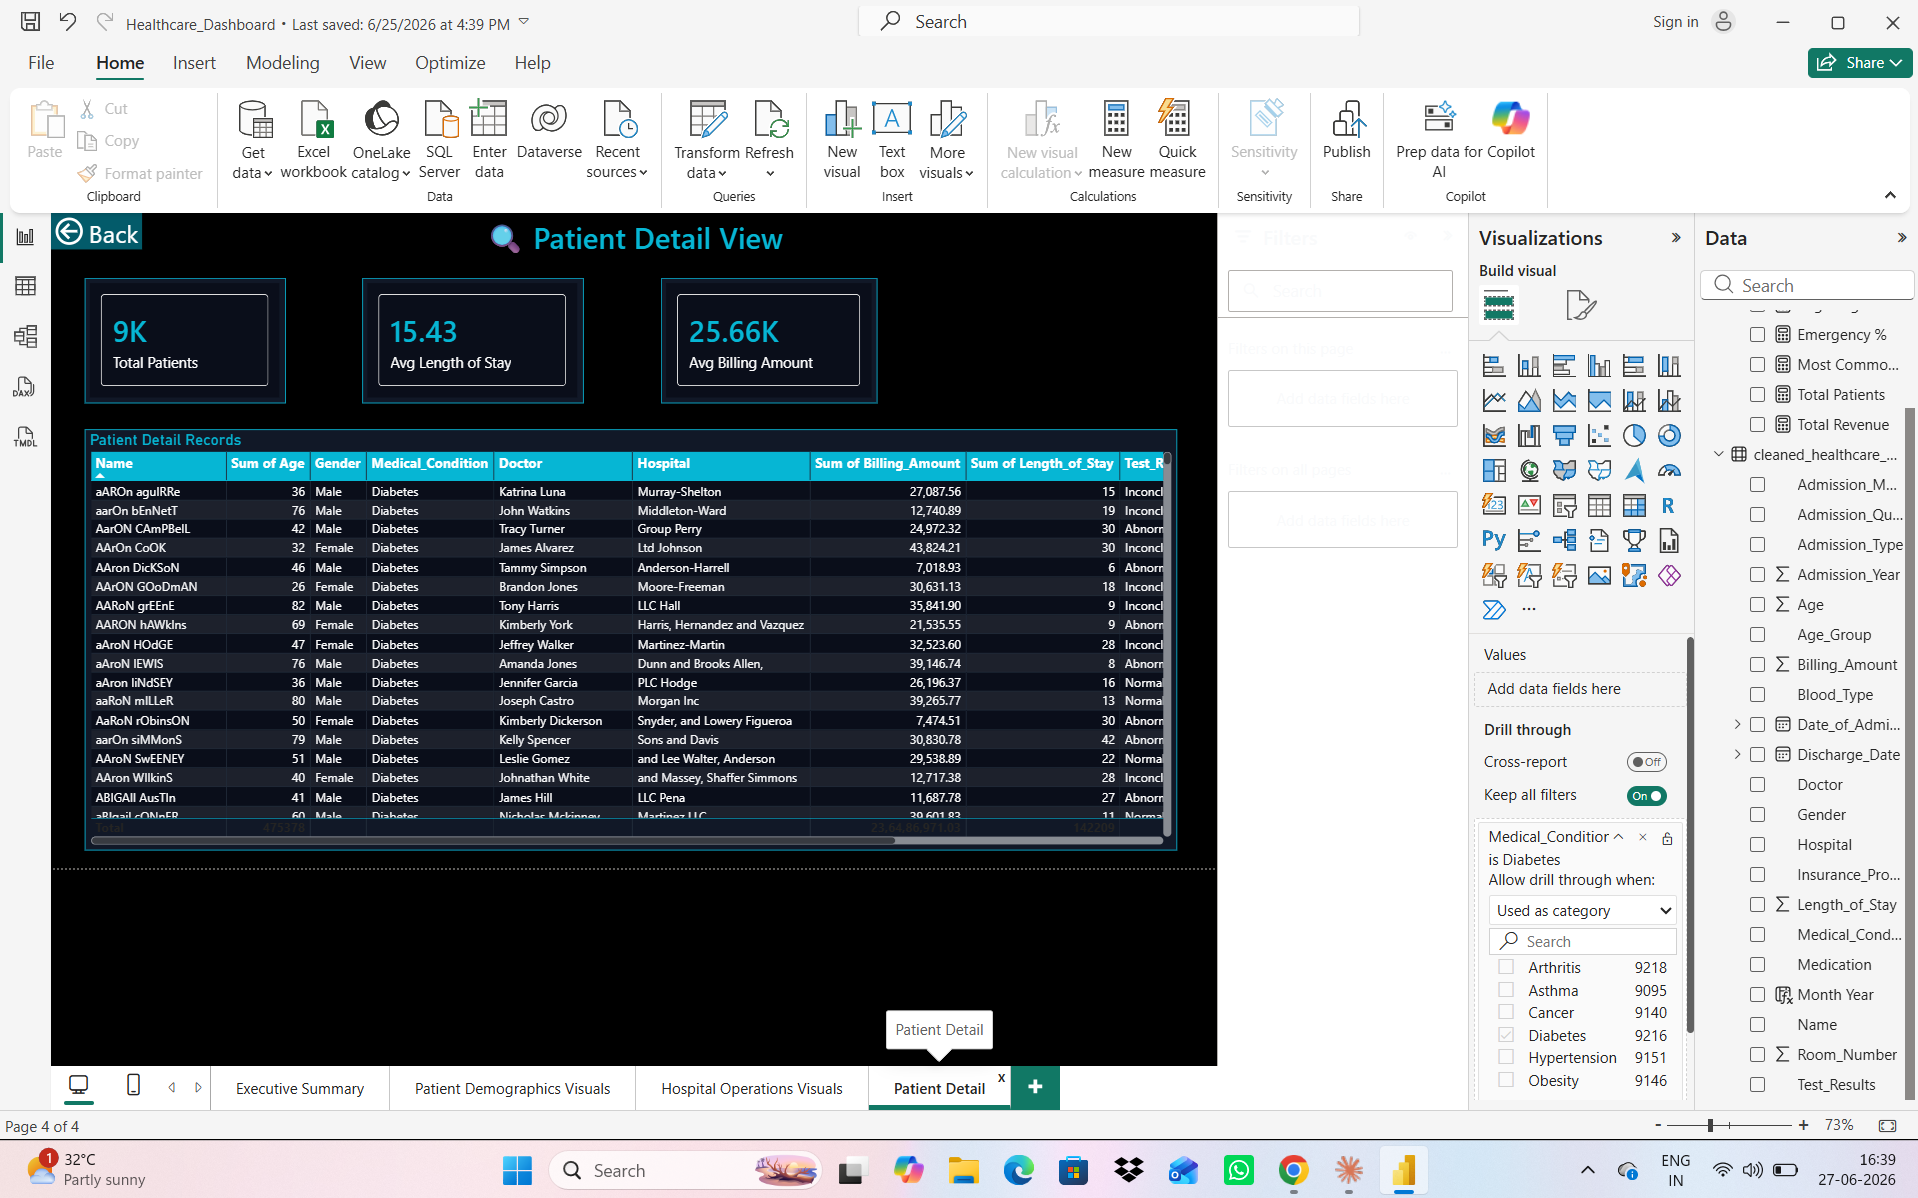

This screenshot's page, from the dashboard's own definition file:
{"tool":"powerbi","page":{"name":"Patient Detail","canvas":[1280,720],"ordinal":3},"visuals":[{"type":"textbox","box":[0,0,1280.3,52.1],"z":0},{"type":"actionButton","box":[0,0,100,40],"z":1000},{"type":"tableEx","title":"Patient Detail Records","fields":{"Values":["cleaned_healthcare_dataset.Name","Sum(cleaned_healthcare_dataset.Age)","cleaned_healthcare_dataset.Gender","cleaned_healthcare_dataset.Medical_Condition","cleaned_healthcare_dataset.Doctor","cleaned_healthcare_dataset.Hospital","Sum(cleaned_healthcare_dataset.Billing_Amount)","Sum(cleaned_healthcare_dataset.Length_of_Stay)","cleaned_healthcare_dataset.Test_Results","cleaned_healthcare_dataset.Admission_Type","cleaned_healthcare_dataset.Date_of_Admission.Variation.Date Hierarchy.Year","cleaned_healthcare_dataset.Date_of_Admission.Variation.Date Hierarchy.Quarter"]},"box":[37,237.4,1199.3,462.4],"z":2000},{"type":"cardVisual","fields":{"Data":["Table_Measures.Total Patients"]},"box":[37,71.4,220.9,137.2],"z":3000},{"type":"cardVisual","fields":{"Data":["Table_Measures.Avg Length of Stay"]},"box":[341.7,71.4,242.9,137.2],"z":4000},{"type":"cardVisual","fields":{"Data":["Table_Measures.Avg Billing Amount"]},"box":[669.6,71.4,237.4,137.2],"z":5000}]}

Visuals, with their boxes on the page's 1280x720 design canvas (x1, y1, x2, y2). These are canvas units, not pixel positions in the 1918x1198 screenshot, which may show the page scaled, cropped or inside an application window:
textbox: [x1=0, y1=0, x2=1280, y2=52]
actionButton: [x1=0, y1=0, x2=100, y2=40]
"Patient Detail Records" tableEx: [x1=37, y1=237, x2=1236, y2=700]
cardVisual - Table_Measures.Total Patients: [x1=37, y1=71, x2=258, y2=209]
cardVisual - Table_Measures.Avg Length of Stay: [x1=342, y1=71, x2=585, y2=209]
cardVisual - Table_Measures.Avg Billing Amount: [x1=670, y1=71, x2=907, y2=209]
